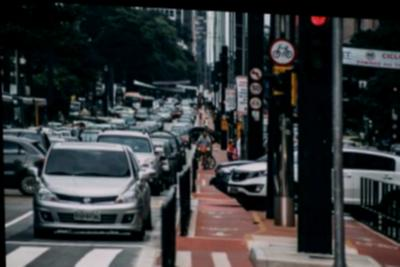License_Plate: (68, 204, 106, 226)
